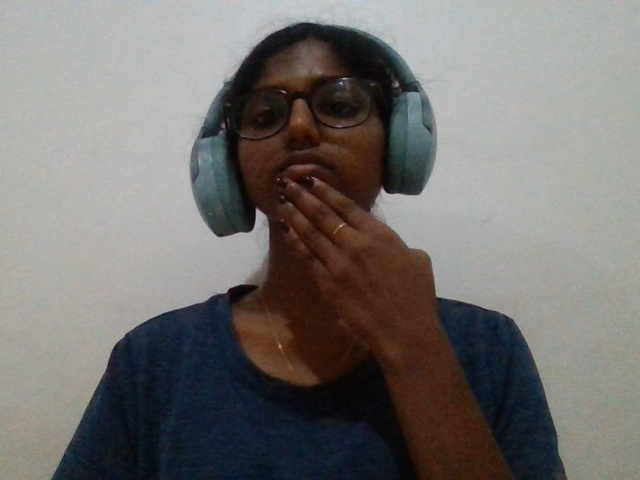Thanks: (243, 133, 445, 372)
